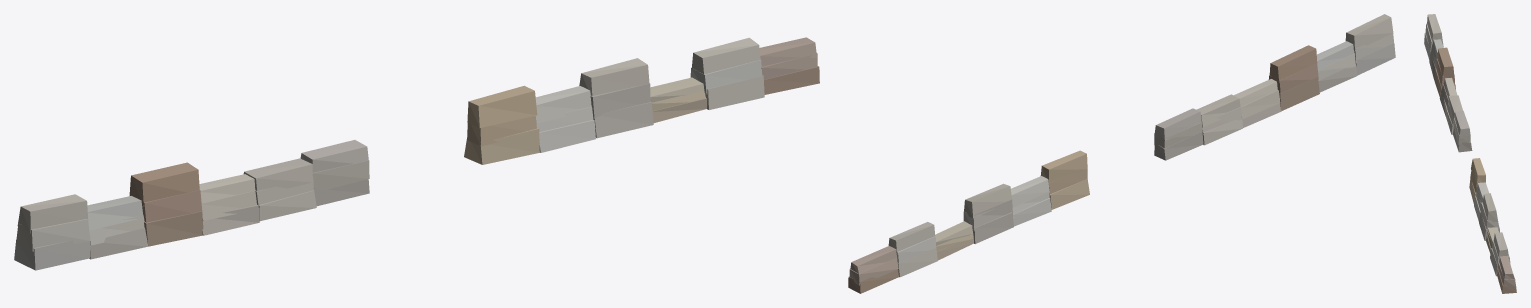
The model's file is farm_-5_-9_mid.glb.
3 renders of one model, left to right at view 1: azimuth 30°, elevation 25°; view 2: azimuth 210°, elevation 25°; view 3: azimuth 270°, elevation 25°, orthographic. The views are drawn at different scales.
Visible parts, largest first — view 1: geometry_0; view 2: geometry_0; view 3: geometry_0.
Part boxes in pixels (x1=…): geometry_0: x1=14, y1=37, x2=819, y2=270; geometry_0: x1=848, y1=14, x2=1395, y2=293; geometry_0: x1=1424, y1=14, x2=1516, y2=293.
Size of the model in its own units: 21.68 by 3.28 by 4.01.
